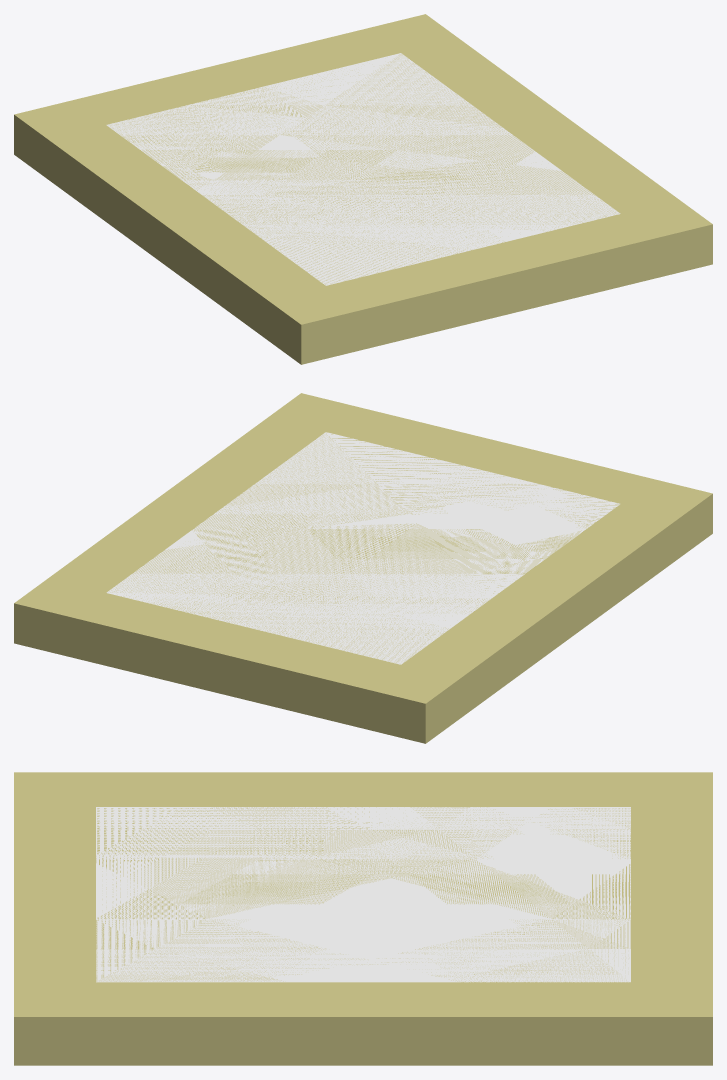
3 renders of one model, top to bottom at view 1: azimuth 30°, elevation 25°; view 2: azimuth 150°, elevation 25°; view 3: azimuth 270°, elevation 25°, orthographic. The views are drawn at different scales.
Visible parts, largest first — view 1: the art of painting jan vermeer; view 2: the art of painting jan vermeer; view 3: the art of painting jan vermeer.
Boxes of the visible parts, x1,y1,x2,y2 form: the art of painting jan vermeer: (14, 14, 712, 364); the art of painting jan vermeer: (14, 393, 712, 743); the art of painting jan vermeer: (14, 772, 712, 1065).
Size of the model in its own units: 34.38 by 3.2 by 41.54.
